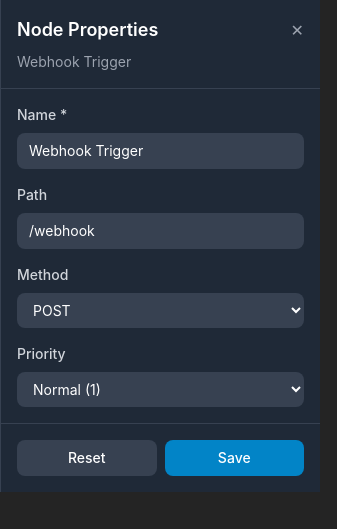
Test: PropertyPanel › Validation › should validate required fields
Clear the field labelled "Name *". click: (160, 151)
box: [17,133,304,169]
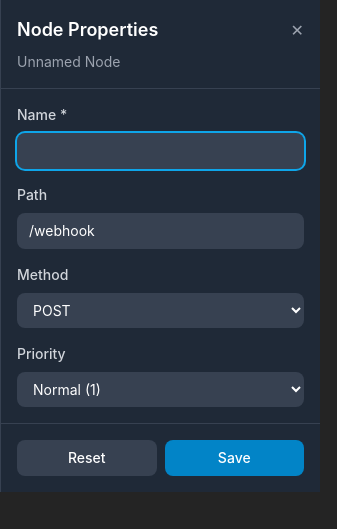
Click the button "Save". click: click(234, 458)
box: [164,440,304,476]
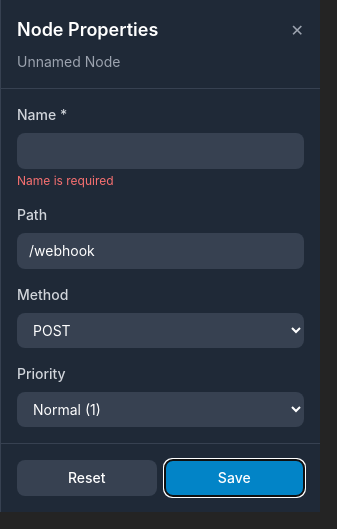
Result: the text "Name is required" is shown at [17,173,114,188]
